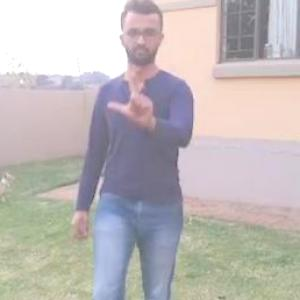land_hand: (104, 60, 160, 127)
